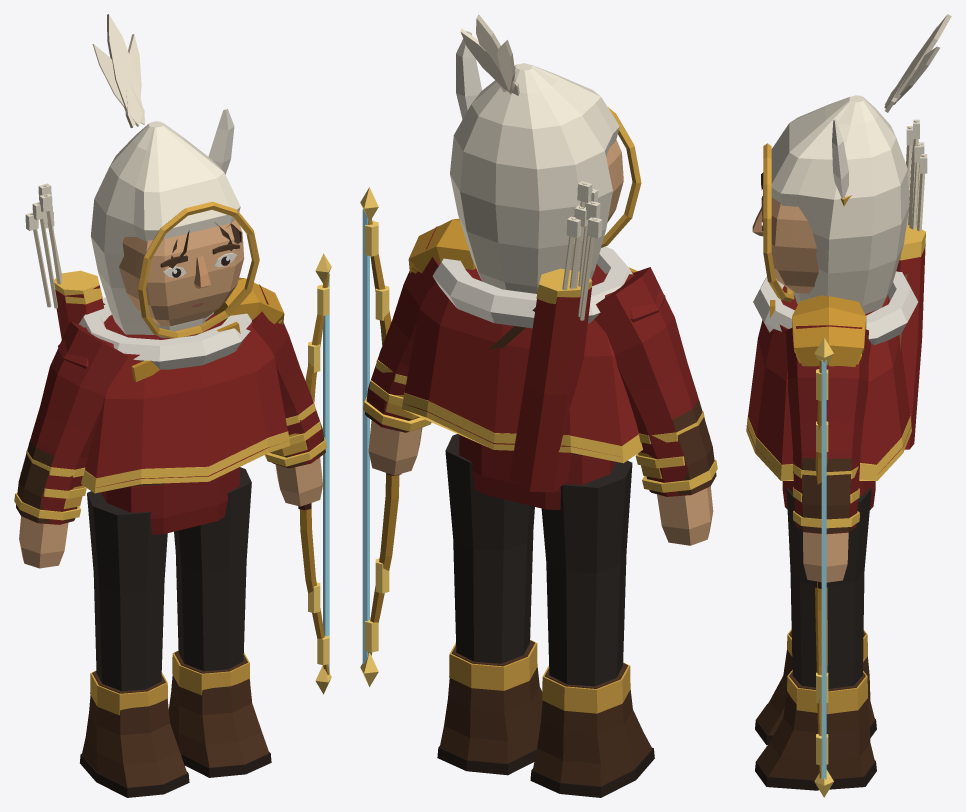
The model's file is ranger-legendary.obj.
3 renders of one model, left to right at view 1: azimuth 30°, elevation 25°; view 2: azimuth 150°, elevation 25°; view 3: azimuth 270°, elevation 25°, orthographic. The views are drawn at different scales.
Visible parts, largest first — view 1: bacaklar, pelerin, kapuson, cizmeler, kollar, kafa, govde, omuz-kurku, eller, pelerin-kenari, kapuson-kenari, cizme-plakalari (+13 smaller); view 2: bacaklar, kapuson, pelerin, kollar, cizmeler, sadak, omuz-kurku, eller, cizme-plakalari, govde, pelerin-kenari, yay-isigi (+14 smaller); view 3: kapuson, pelerin, bacaklar, cizmeler, kollar, omuz-zirhi, kafa, omuz-kurku, bileklikler, sadak, yay-isigi, eller (+14 smaller).
Boxes of the visible parts, x1,y1,x2,y2 form: bacaklar: (87,467,251,691); pelerin: (85,322,287,487); kapuson: (91,121,240,337); cizmeler: (82,651,269,787); kollar: (21,284,324,524); kafa: (119,220,244,326); govde: (101,314,239,534); omuz-kurku: (78,297,251,369); eller: (19,457,322,568); pelerin-kenari: (81,431,290,493); kapuson-kenari: (138,201,259,338); cizme-plakalari: (90,650,250,715); bacaklar: (445,434,632,686); kapuson: (450,63,619,293); pelerin: (403,271,638,456); kollar: (366,226,710,496); cizmeler: (440,640,652,786); sadak: (509,287,591,492); omuz-kurku: (432,246,632,328); eller: (368,420,713,545); cizme-plakalari: (449,639,630,713); govde: (459,264,616,510); pelerin-kenari: (402,392,642,463); yay-isigi: (362,209,369,664); kapuson: (771,95,909,313); pelerin: (746,295,911,473); bacaklar: (786,487,871,688); cizmeler: (757,631,874,780); kollar: (785,325,870,534); omuz-zirhi: (770,295,866,366); kafa: (771,197,818,293); omuz-kurku: (753,271,917,345); bileklikler: (798,458,852,533); sadak: (896,244,925,449); yay-isigi: (821,360,826,779); eller: (803,532,848,582).
Size of the model in its own units: 22.73 by 49.15 by 12.47.
